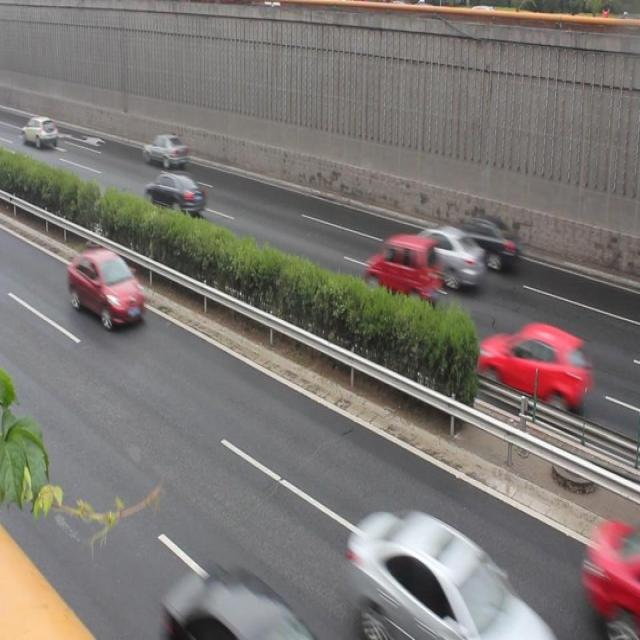car: (345, 511, 529, 640), (164, 562, 298, 640), (474, 322, 585, 411), (68, 248, 144, 327), (402, 223, 482, 291), (366, 236, 440, 304), (445, 213, 519, 273), (144, 171, 206, 219), (143, 132, 188, 168)
